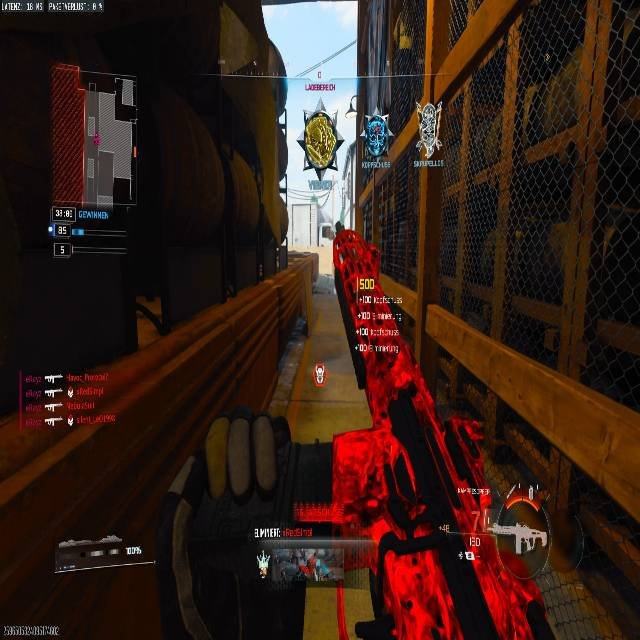player: (300, 108, 341, 181)
